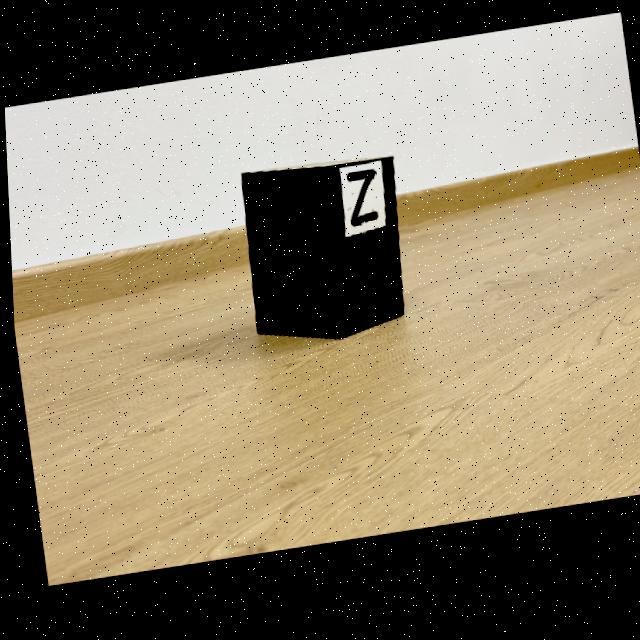Z: (345, 174, 377, 230)
